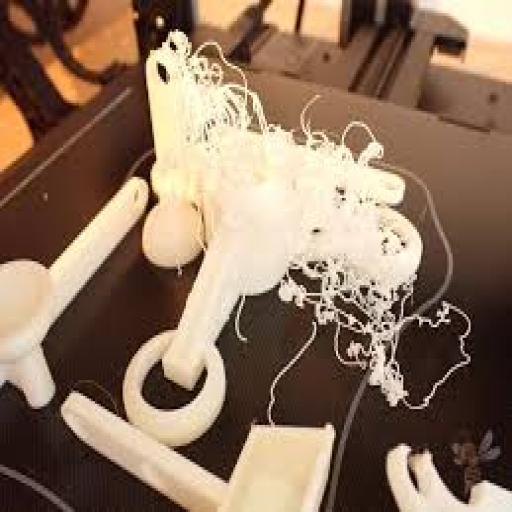spaghetti: (153, 16, 512, 394)
